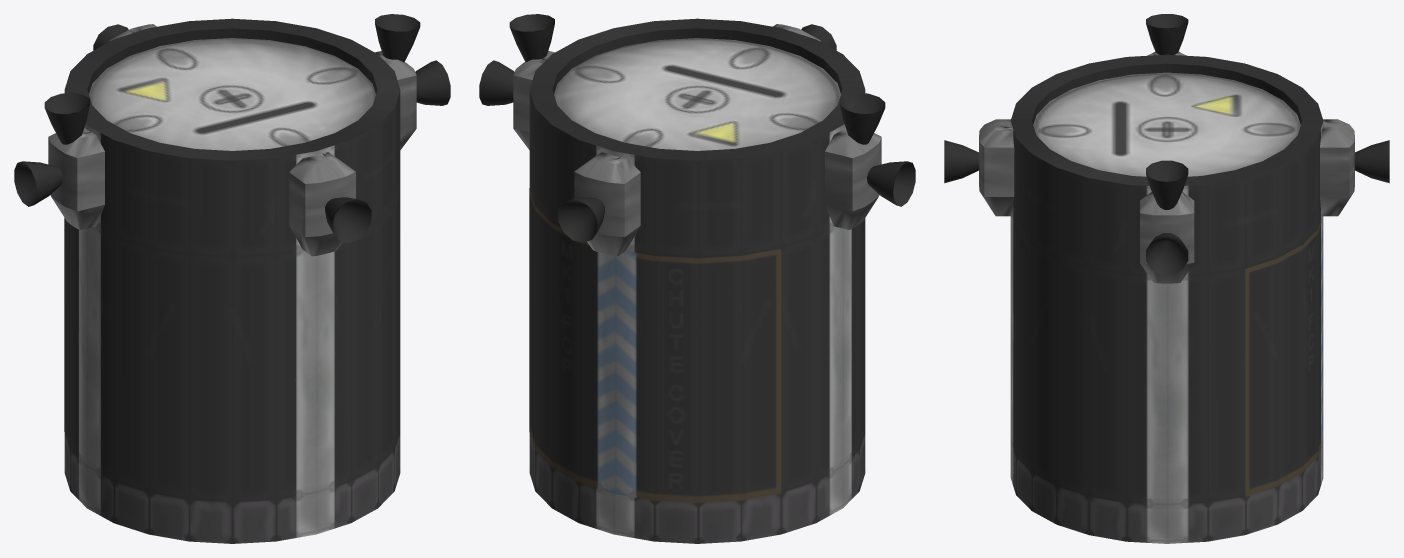
File: FCP.FBX
3 views of the same model, side by side, from view 1: azimuth 30°, elevation 25°; view 2: azimuth 150°, elevation 25°; view 3: azimuth 270°, elevation 25° (orthographic). The views are drawn at different scales.
Parts seen in each view (by area): view 1: MainBody, Cylinder026, Cylinder016, Cylinder018, Cylinder027, Cylinder017, Cylinder022, Cylinder023, Cylinder024; view 2: MainBody, cap, Cylinder020, Cylinder016, Cylinder018, Cylinder021, Cylinder017, Cylinder022, Cylinder023, Cylinder024; view 3: MainBody, cap, Cylinder026, Cylinder020, Cylinder023, Cylinder022, Cylinder024, Cylinder018, Cylinder027, Cylinder021.
Part boxes in pixels (x1=…): MainBody: x1=64, y1=18, x2=400, y2=543; Cylinder026: x1=289, y1=152, x2=355, y2=256; Cylinder016: x1=48, y1=127, x2=104, y2=229; Cylinder018: x1=44, y1=92, x2=89, y2=144; Cylinder027: x1=325, y1=197, x2=371, y2=242; Cylinder017: x1=14, y1=161, x2=62, y2=206; Cylinder022: x1=375, y1=14, x2=420, y2=62; Cylinder023: x1=375, y1=51, x2=416, y2=149; Cylinder024: x1=415, y1=60, x2=450, y2=105; MainBody: x1=529, y1=18, x2=865, y2=543; cap: x1=529, y1=188, x2=781, y2=503; Cylinder020: x1=574, y1=152, x2=640, y2=256; Cylinder016: x1=825, y1=127, x2=881, y2=229; Cylinder018: x1=840, y1=92, x2=885, y2=144; Cylinder021: x1=558, y1=197, x2=604, y2=242; Cylinder017: x1=867, y1=161, x2=915, y2=206; Cylinder022: x1=509, y1=14, x2=554, y2=62; Cylinder023: x1=513, y1=51, x2=554, y2=149; Cylinder024: x1=479, y1=60, x2=514, y2=105; MainBody: x1=1010, y1=54, x2=1323, y2=543; cap: x1=1245, y1=216, x2=1323, y2=496; Cylinder026: x1=979, y1=119, x2=1014, y2=216; Cylinder020: x1=1320, y1=119, x2=1354, y2=216; Cylinder023: x1=1140, y1=192, x2=1194, y2=283; Cylinder022: x1=1146, y1=160, x2=1188, y2=209; Cylinder024: x1=1146, y1=233, x2=1188, y2=274; Cylinder018: x1=1146, y1=14, x2=1188, y2=54; Cylinder027: x1=944, y1=140, x2=979, y2=183; Cylinder021: x1=1354, y1=140, x2=1389, y2=183.
Size of what is drawn, in the model's own units: 0.8893 by 0.8448 by 0.8895.
